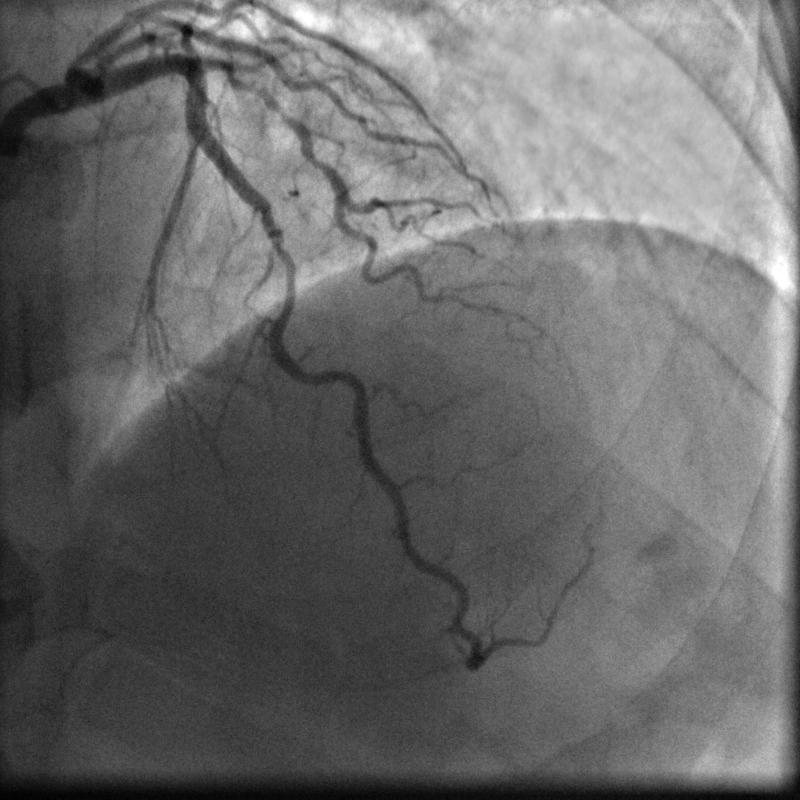Stenosis: (266, 233, 300, 318)
